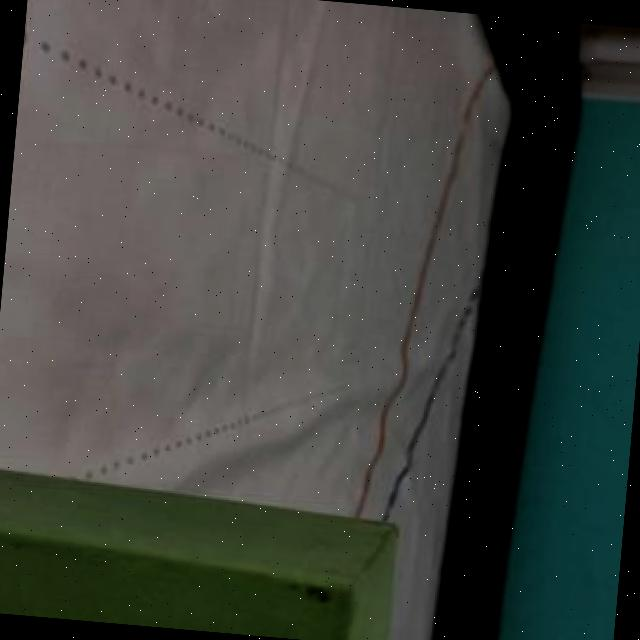greenbox: (0, 464, 405, 640)
